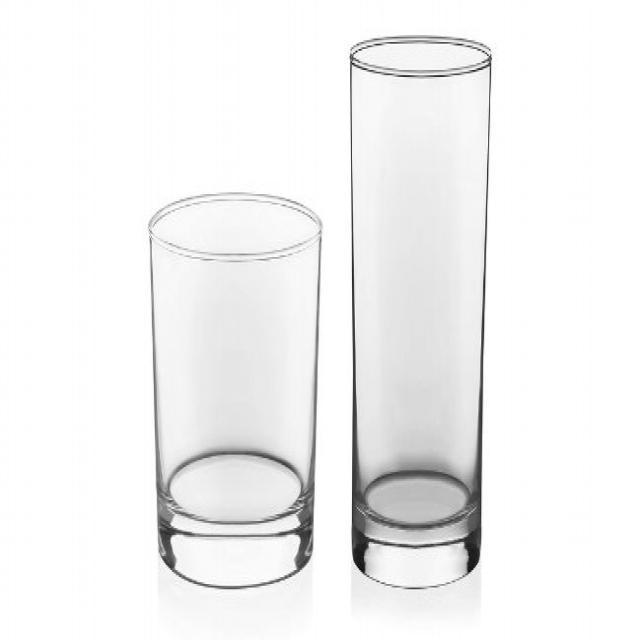glass: (350, 34, 490, 589), (148, 190, 325, 590)
